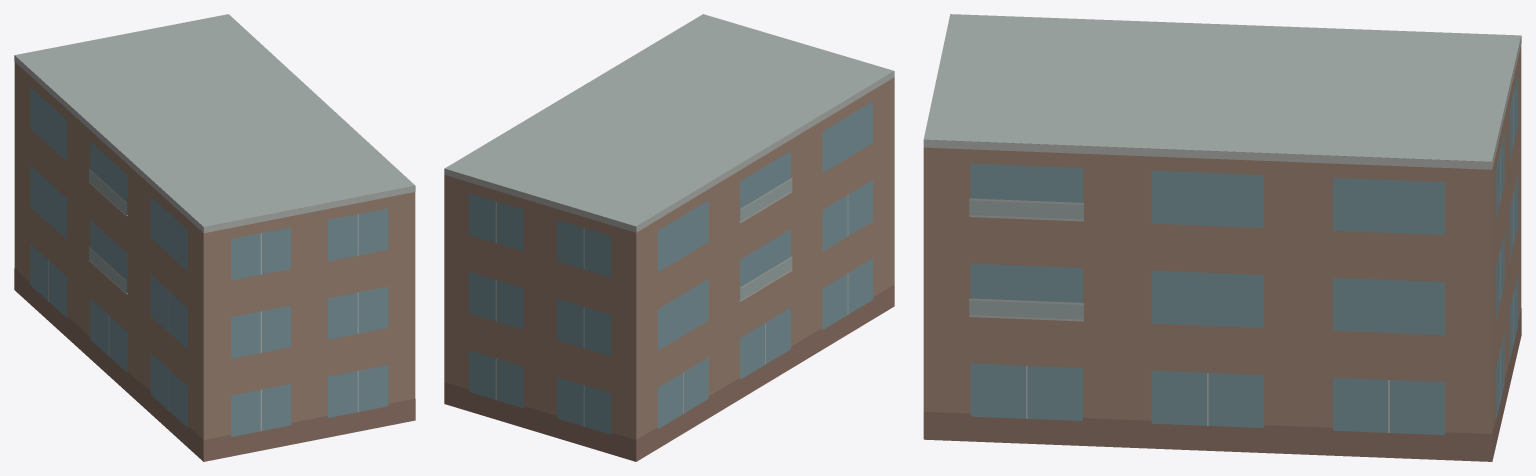
File: survey-upis-32888064.glb
3 renders of one model, left to right at view 1: azimuth 30°, elevation 25°; view 2: azimuth 150°, elevation 25°; view 3: azimuth 270°, elevation 25°, orthographic. The views are drawn at different scales.
Parts seen in each view (by area): view 1: survey-upis-32888064.tmp; view 2: survey-upis-32888064.tmp; view 3: survey-upis-32888064.tmp.
Boxes of the visible parts, x1,y1,x2,y2 form: survey-upis-32888064.tmp: (14, 14, 415, 461); survey-upis-32888064.tmp: (444, 14, 894, 461); survey-upis-32888064.tmp: (923, 14, 1521, 461).
Size of the model in its own units: 9.68 by 9.15 by 16.53.
